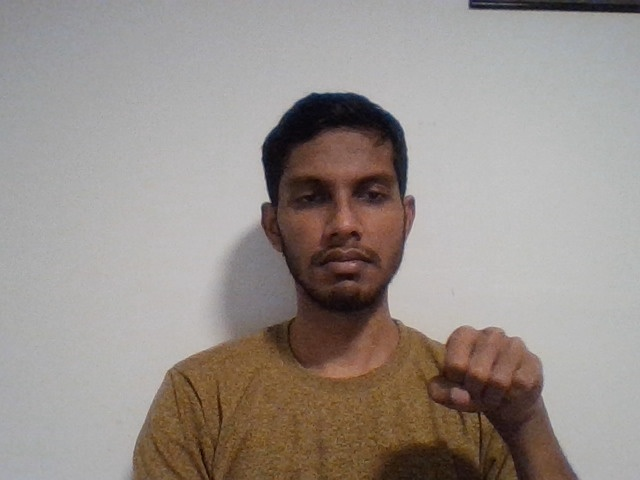yes: (418, 319, 564, 443)
